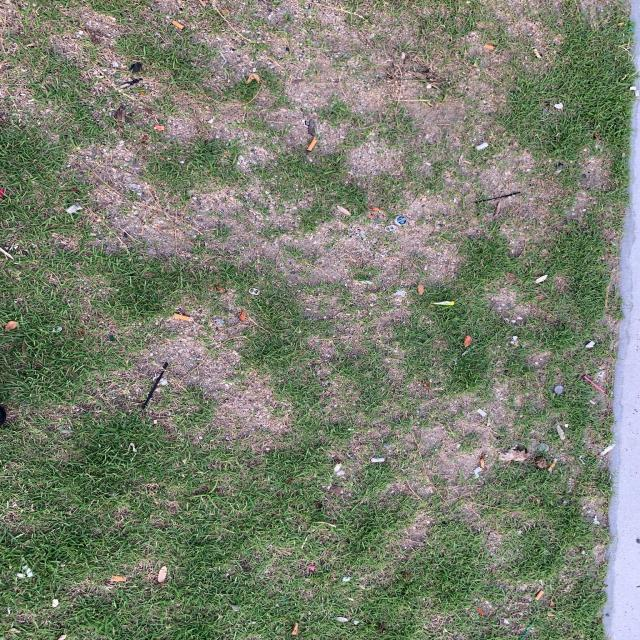litter: (393, 214, 407, 226)
